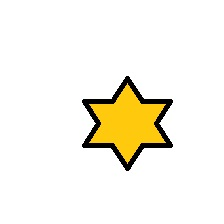star: (82, 76, 172, 171)
